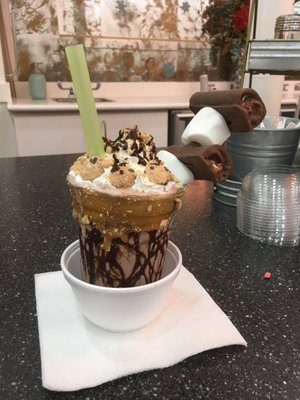sushi: (61, 237, 184, 333), (224, 129, 300, 182), (189, 88, 267, 133)
